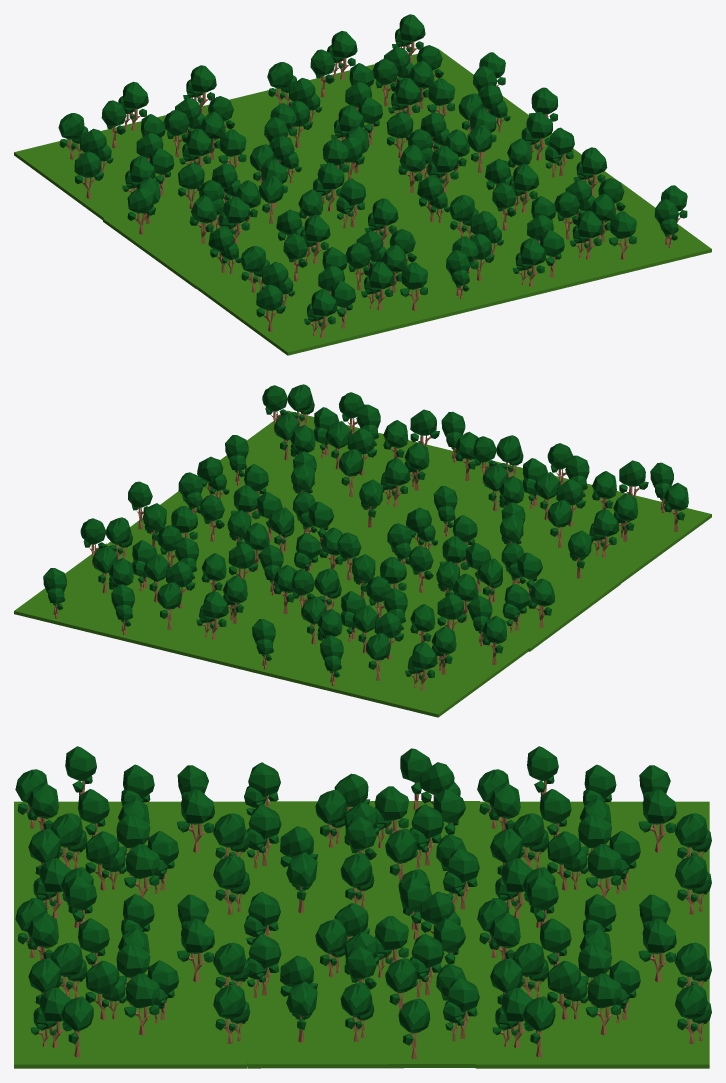
The model's file is WideTree.glb.
3 renders of one model, top to bottom at view 1: azimuth 30°, elevation 25°; view 2: azimuth 150°, elevation 25°; view 3: azimuth 270°, elevation 25°, orthographic. The views are drawn at different scales.
Visible parts, largest first — view 1: Tree 29.006; view 2: Tree 29.006; view 3: Tree 29.006.
Part boxes in pixels (x1,y1,x2,y2): Tree 29.006: [14, 14, 711, 355]; Tree 29.006: [14, 384, 711, 717]; Tree 29.006: [14, 746, 711, 1068].
Bounding box in the file's own units: 17.72 × 1.98 × 19.59.
Materials: 330 (6 with a texture image).
